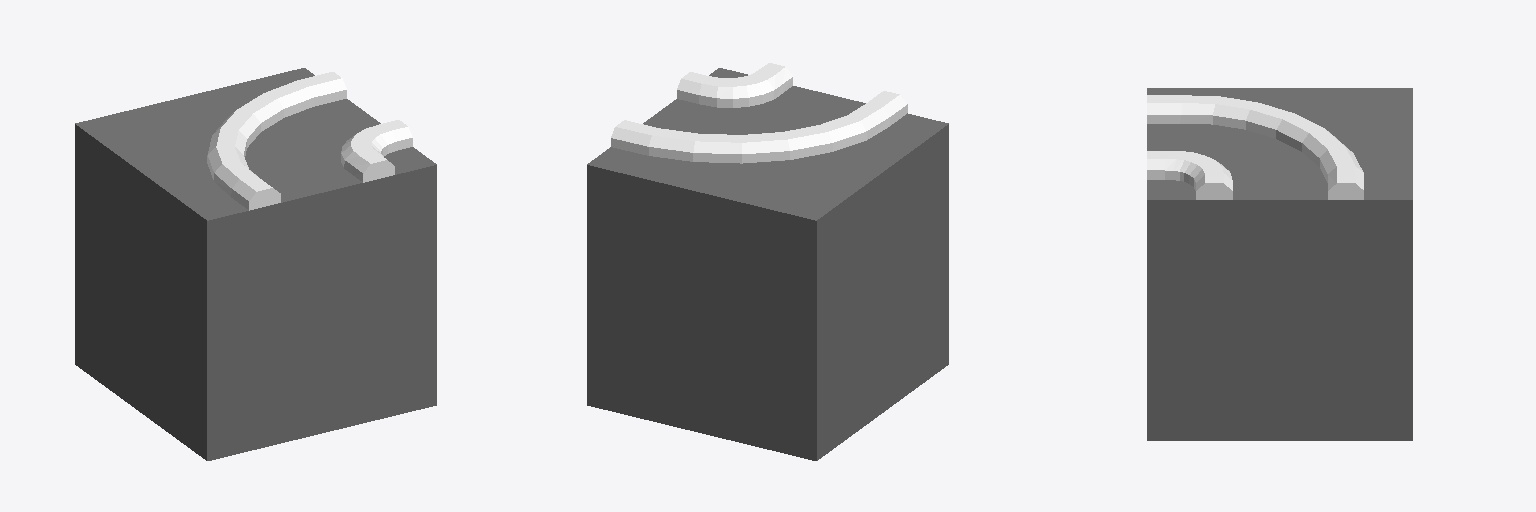
File: RightBlock.obj
The picture shows the model from 3 angles: view 1: azimuth 30°, elevation 25°; view 2: azimuth 150°, elevation 25°; view 3: azimuth 270°, elevation 25°; orthographic projection.
Visible parts, largest first — view 1: polySurface22; view 2: polySurface22; view 3: polySurface22.
Boxes of the visible parts, <box> form: polySurface22: <box>75,68,436,460</box>; polySurface22: <box>587,63,948,460</box>; polySurface22: <box>1147,88,1412,440</box>.
Bounding box in the file's own units: 1 × 1.07 × 1.